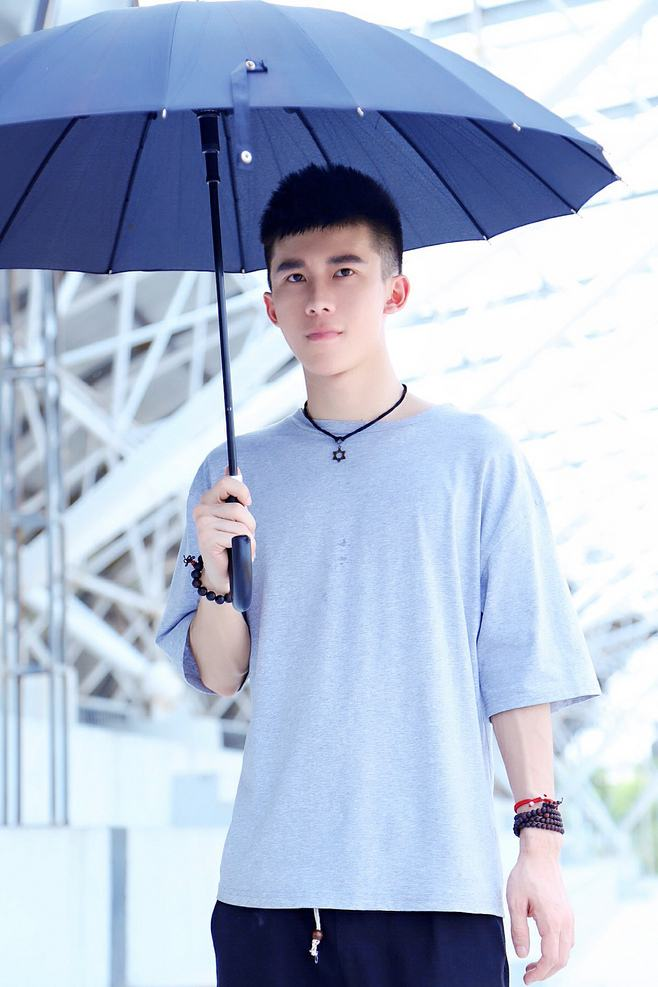person: (197, 163, 572, 914)
